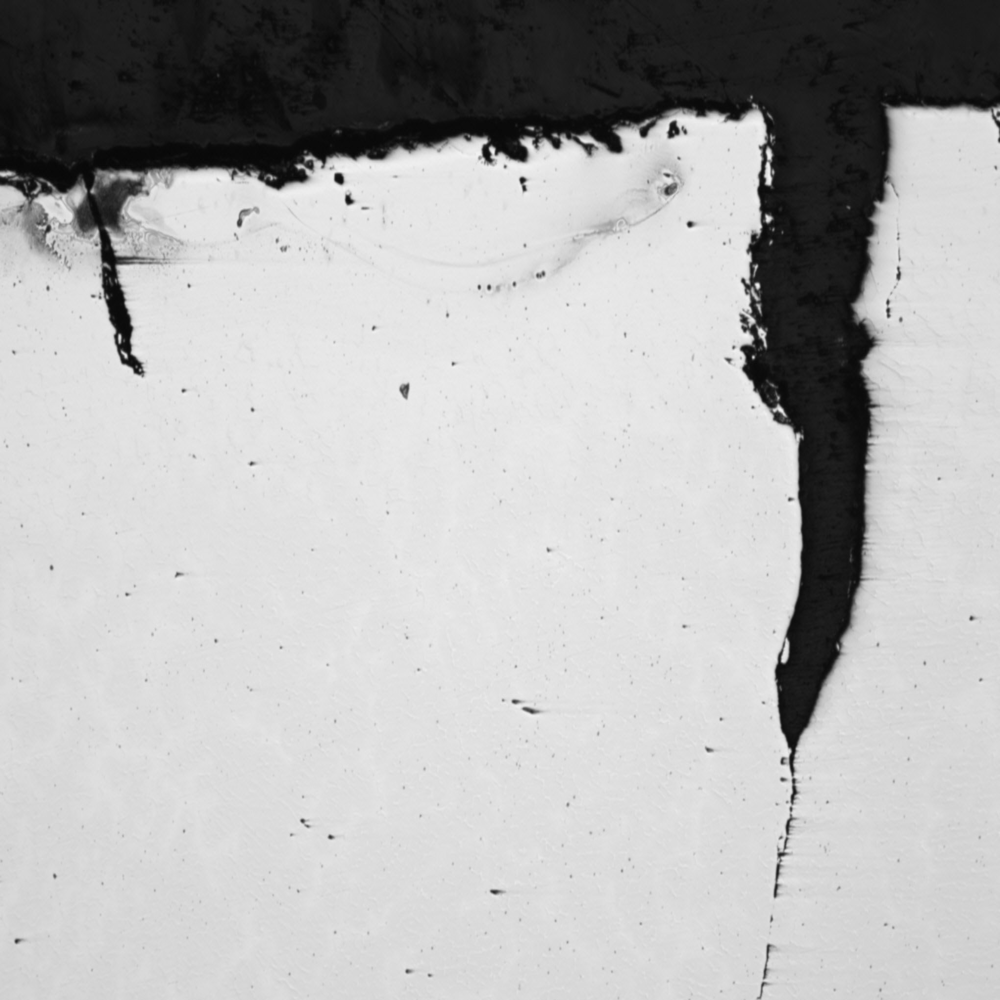crack: (718, 74, 910, 806), (65, 152, 151, 386)
